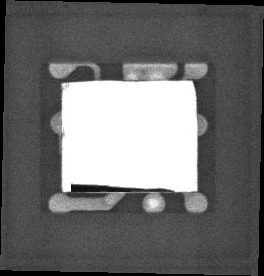DIE_BROKEN: (68, 183, 176, 193)
